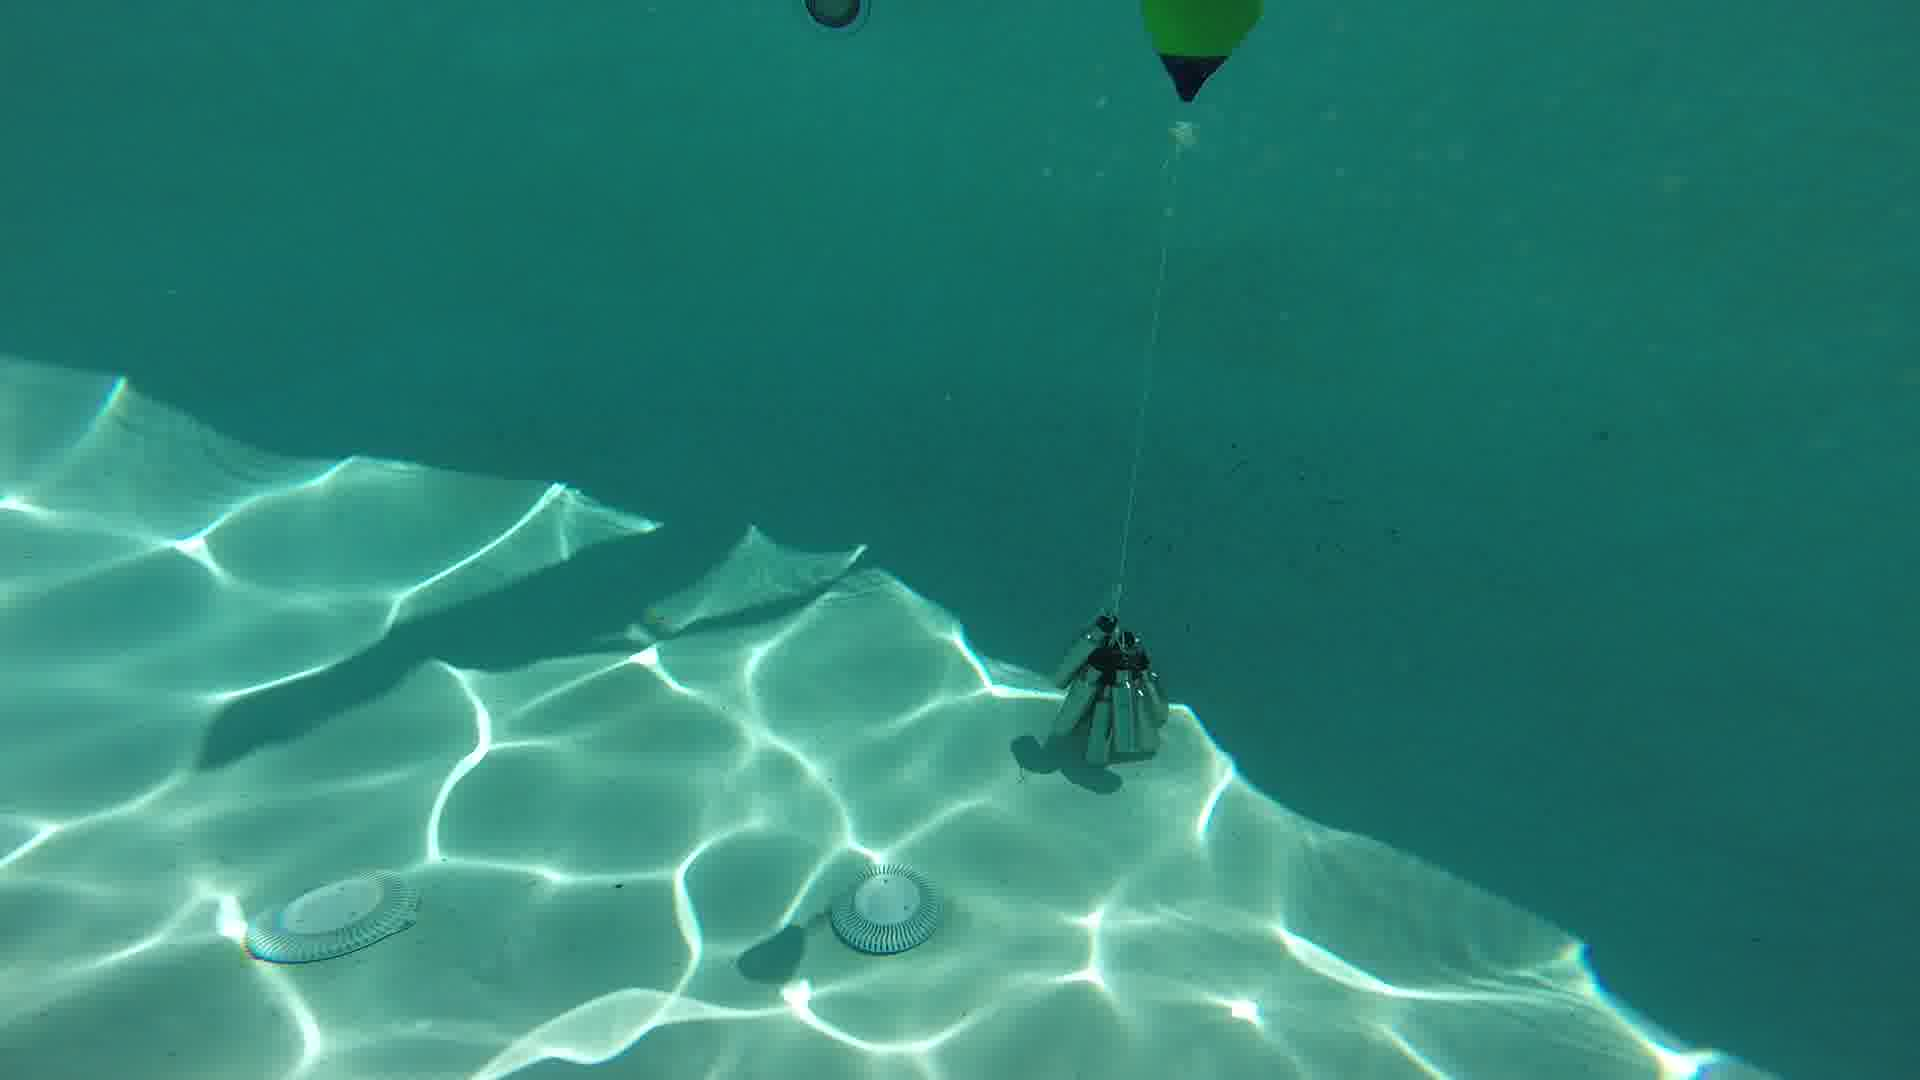yellow_buoy: (1138, 1, 1265, 153)
